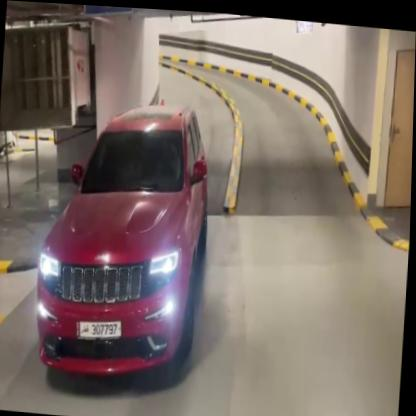np: (76, 317, 129, 341)
